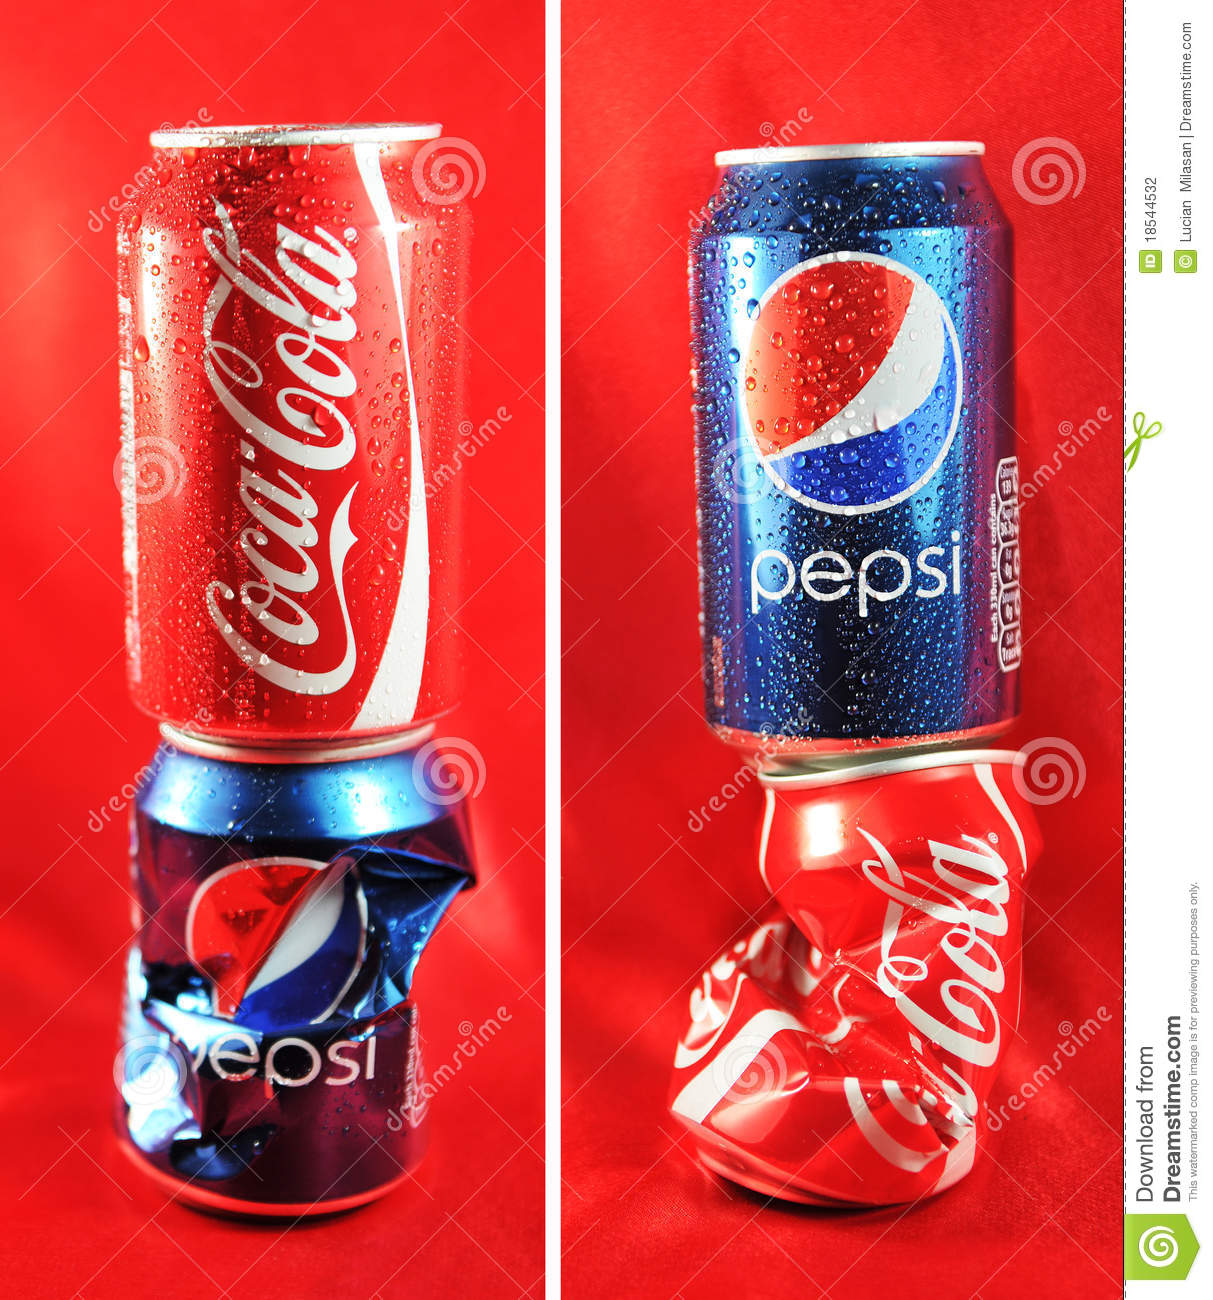pepsi: (728, 239, 962, 515), (728, 246, 962, 515)
